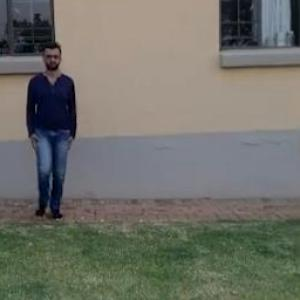follow: (25, 40, 77, 218)
